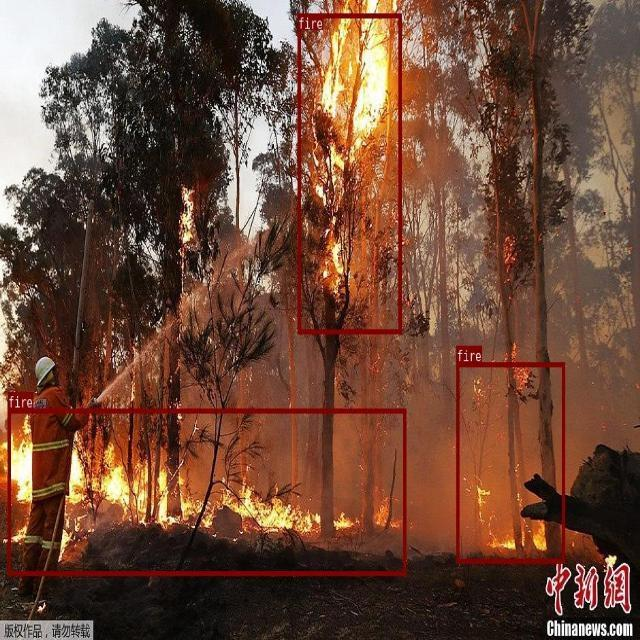fire: (7, 408, 405, 575), (297, 13, 401, 333), (456, 361, 565, 562)
